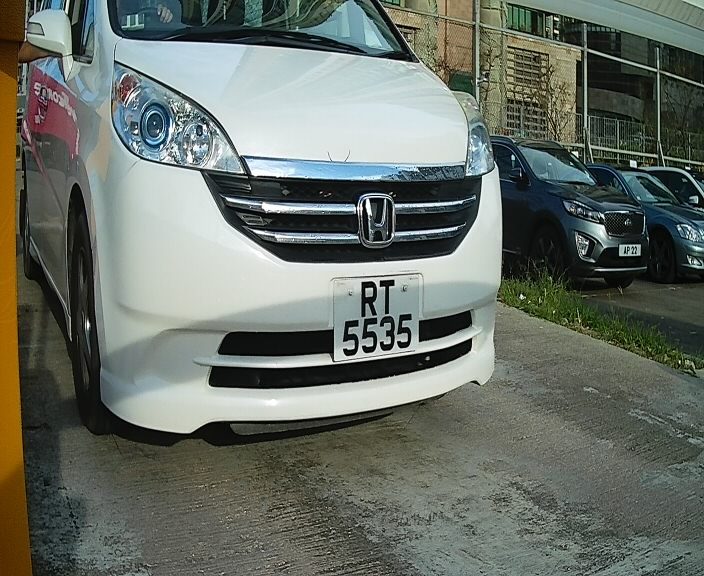Car: (21, 2, 527, 446)
License Plate: (322, 268, 427, 368)
